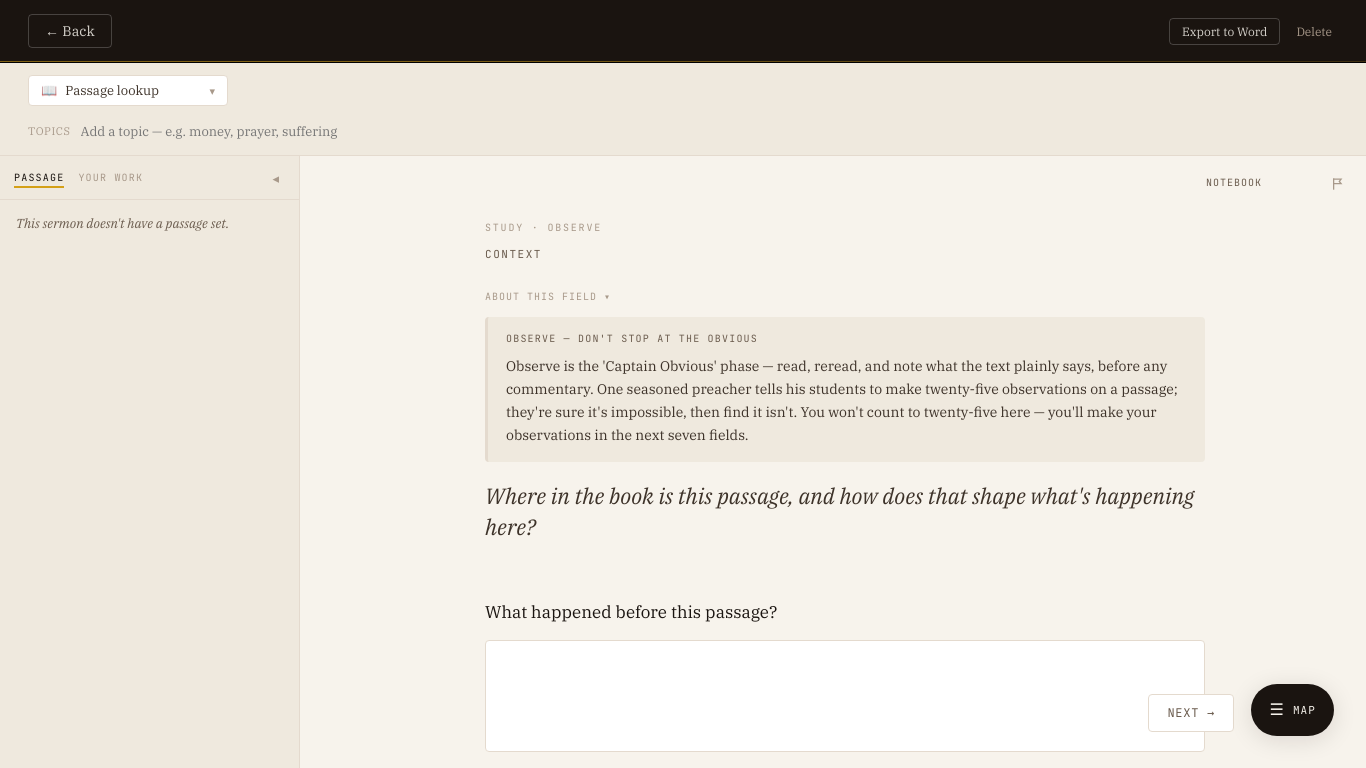
Test case: Track D ⑤ pin — threshold lifecycle › reread re-summons a threshold screen without persisting it seen — view-only, no write (#3)
This screenshot has width=1366, height=768.
Open the map and click "Read again" for sermon-start.
Click the button with class "sws-map-summon" at (1293, 710), box [1251,684,1334,736]
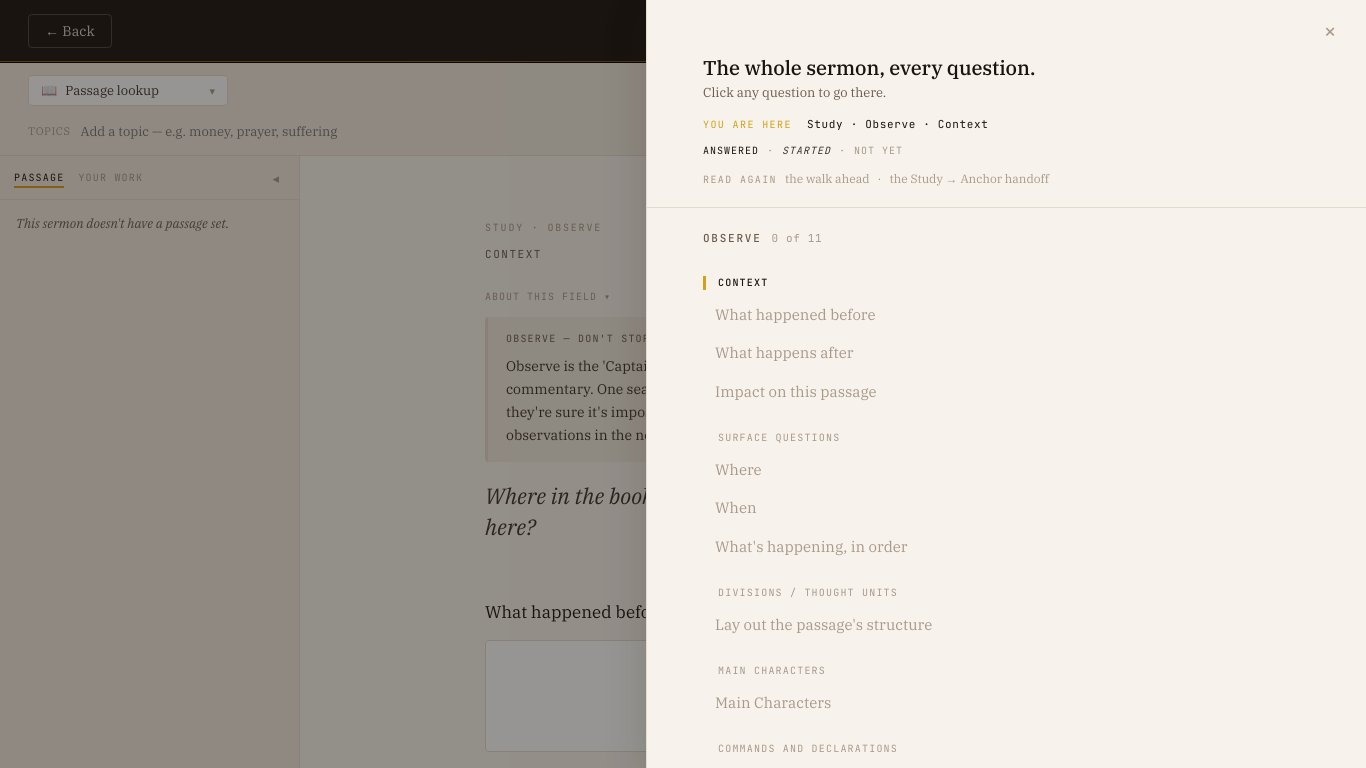
Click the button with class "sm-reread-link" showing "the walk ahead" at (827, 179), box [785,171,870,186]
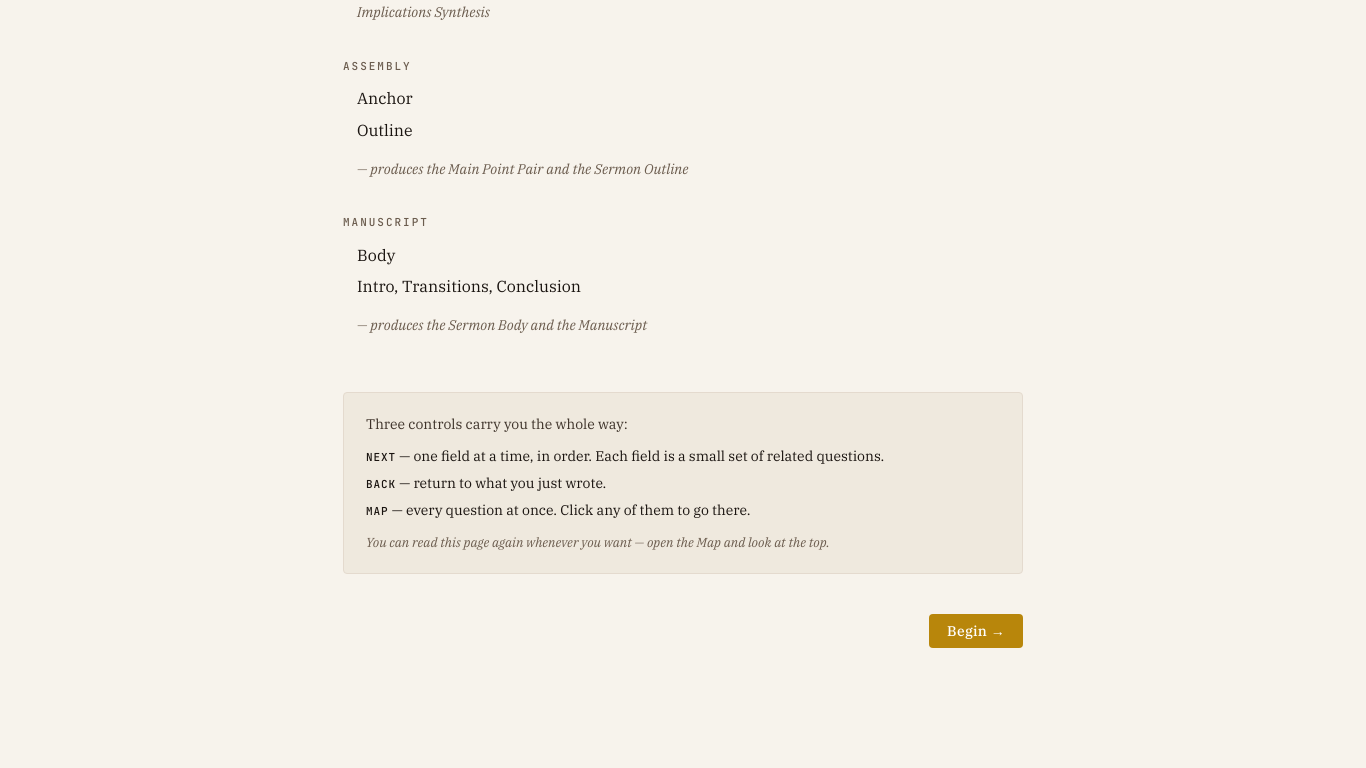
Result: the dialog with class "ssl-overlay" is shown
Close it (Begin in reread mode clears local state, never persists).
Click the button "Begin →" at (976, 631), box [929,614,1023,648]
Wait 900 ms
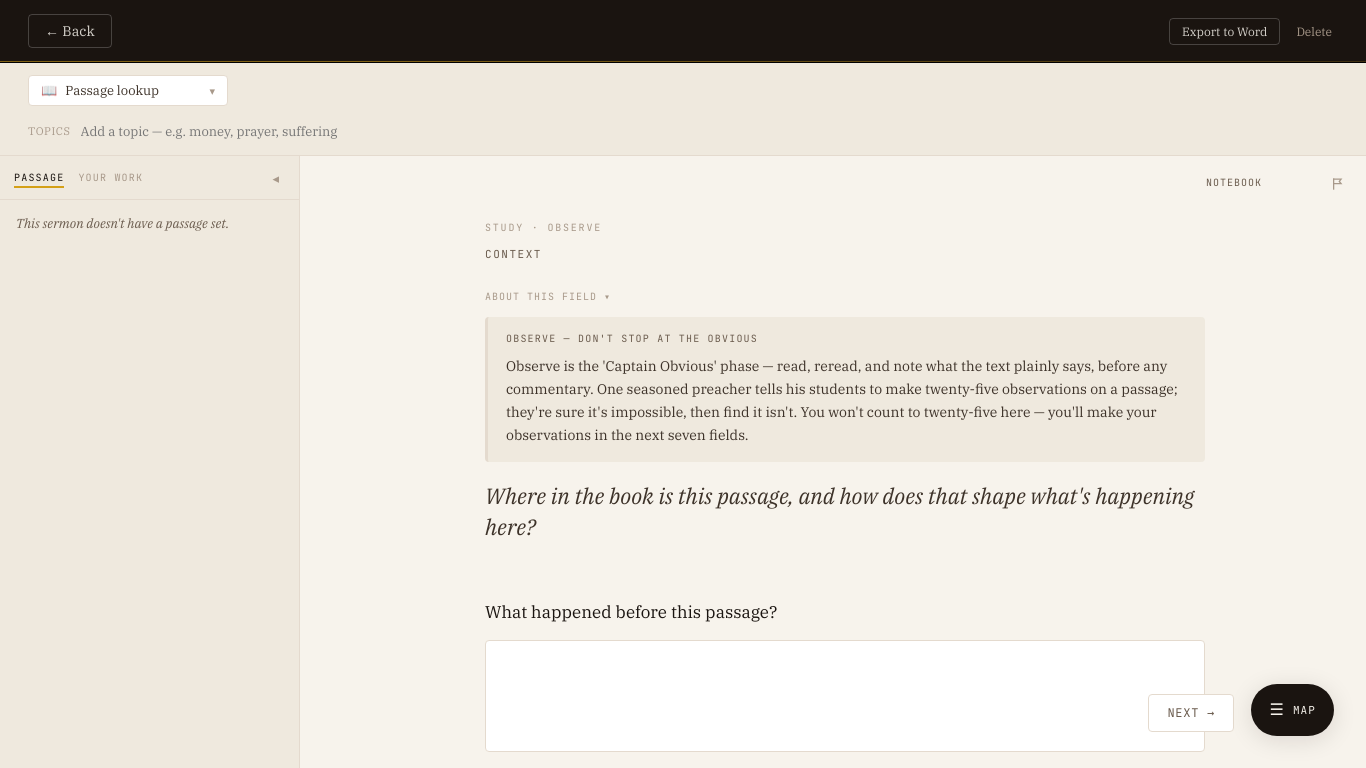
Result: the dialog with class "ssl-overlay" is gone
